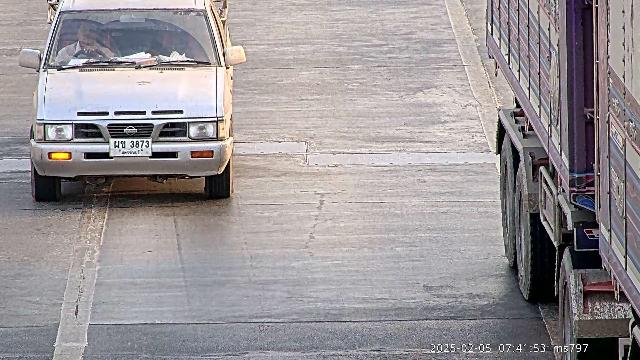pickup-truck: (18, 0, 246, 203)
